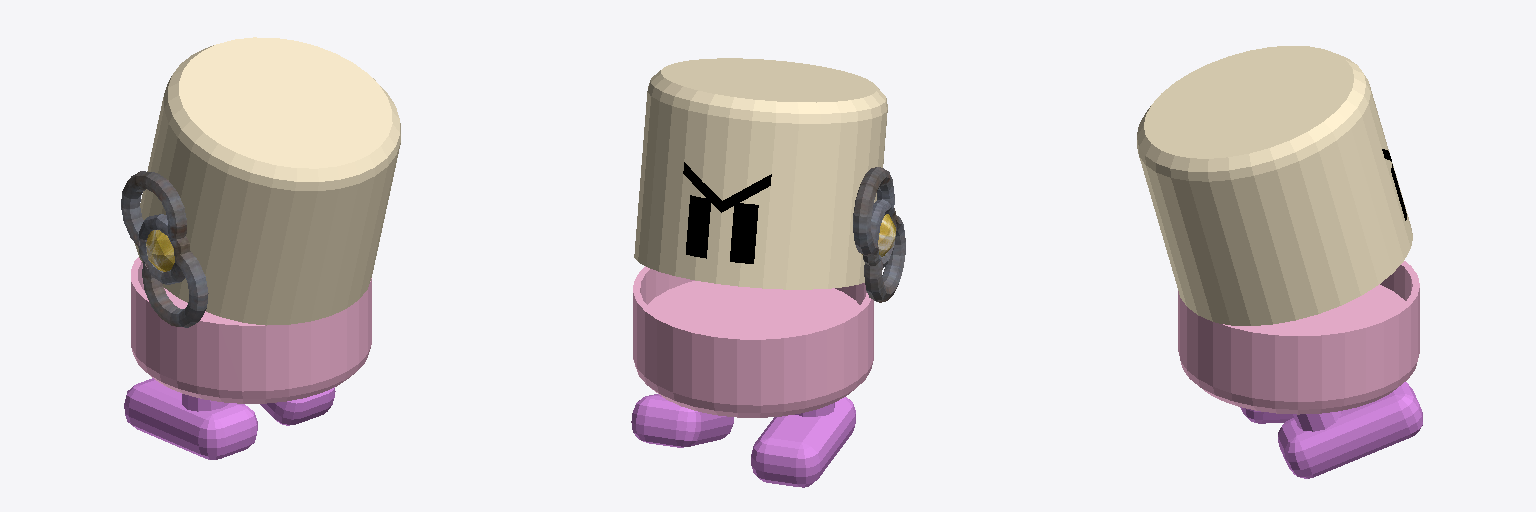
The picture shows the model from 3 angles: view 1: azimuth 30°, elevation 25°; view 2: azimuth 150°, elevation 25°; view 3: azimuth 270°, elevation 25°; orthographic projection.
Parts seen in each view (by area): view 1: Head, Jaw, WindupKey, LeftLeg, RightLeg; view 2: Head, Jaw, LeftLeg, WindupKey, RightLeg; view 3: Head, Jaw, RightLeg.
Boxes of the visible parts, x1=… form: Head: x1=135, y1=37, x2=400, y2=325; Jaw: x1=131, y1=257, x2=371, y2=403; WindupKey: x1=121, y1=171, x2=208, y2=327; LeftLeg: x1=124, y1=378, x2=257, y2=459; RightLeg: x1=260, y1=387, x2=335, y2=425; Head: x1=634, y1=58, x2=887, y2=289; Jaw: x1=633, y1=266, x2=873, y2=417; LeftLeg: x1=751, y1=397, x2=855, y2=487; WindupKey: x1=853, y1=167, x2=905, y2=302; RightLeg: x1=631, y1=394, x2=733, y2=447; Head: x1=1137, y1=46, x2=1412, y2=325; Jaw: x1=1178, y1=261, x2=1419, y2=414; RightLeg: x1=1278, y1=382, x2=1422, y2=478.
Bounding box in the file's own units: 113 × 170 × 118.
Materials: 6 (2 with a texture image).